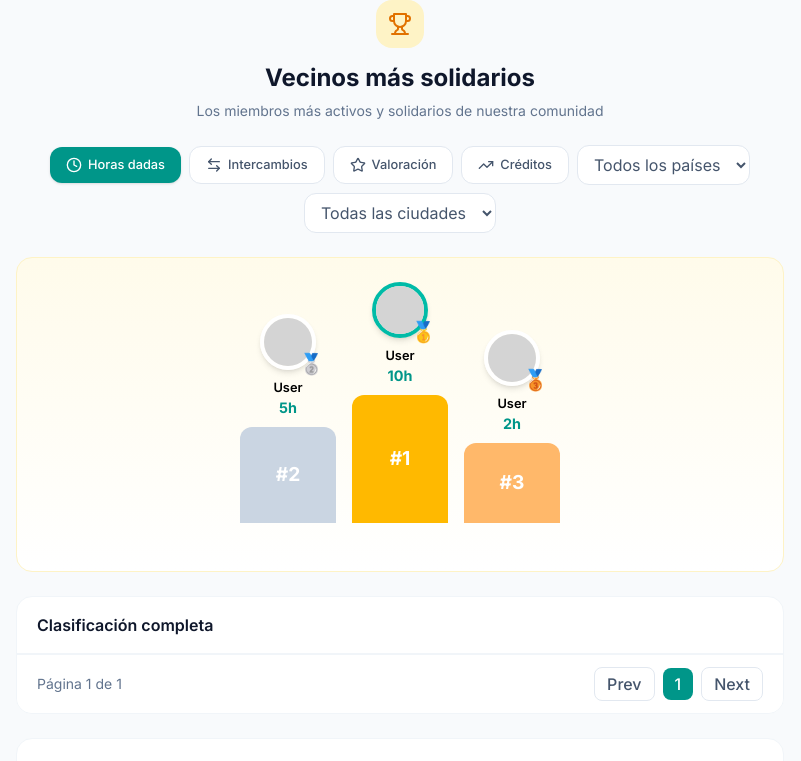
Test: Leaderboard › shows correct stat suffix for hours and rating when sort changes
Expected: the text "5h" is shown, [279,399,297,416]
Click the button "Valoración". click: {"x": 393, "y": 165}
box: [332,146,453,184]
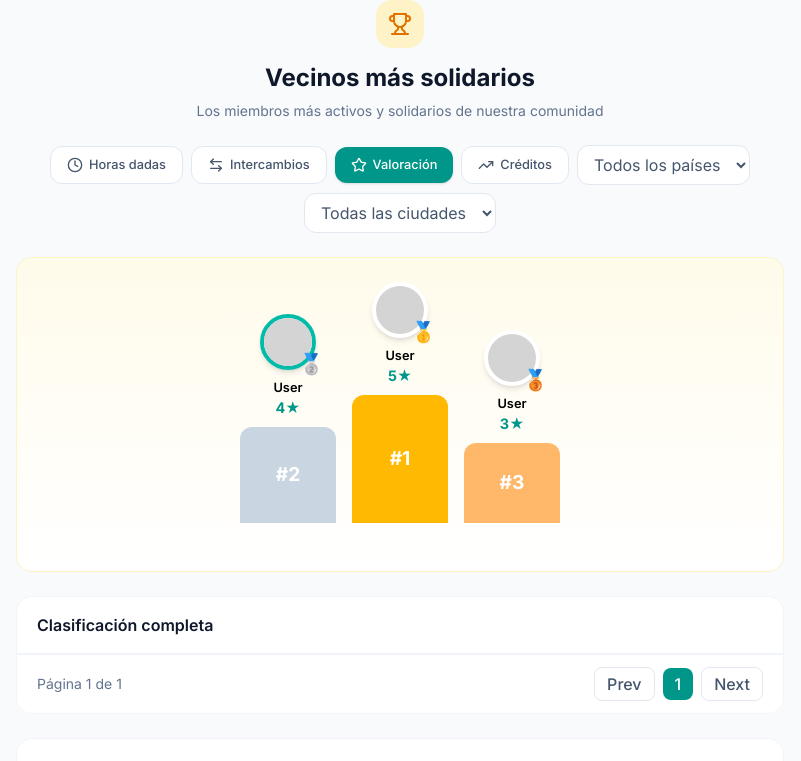
Now the text "4★" is shown, box [274,397,303,419]
